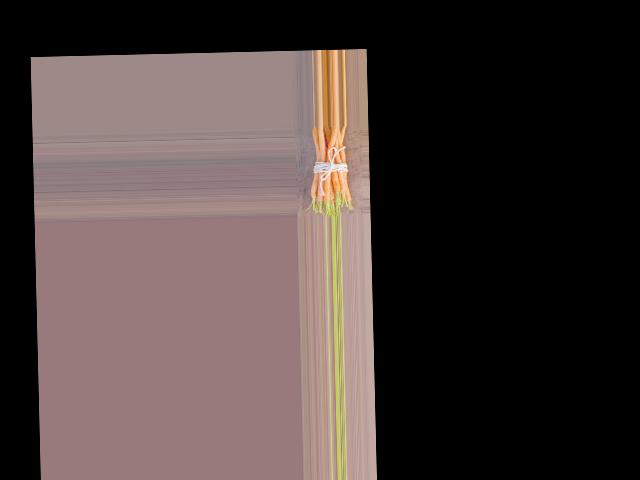carrot: (307, 127, 319, 206)
